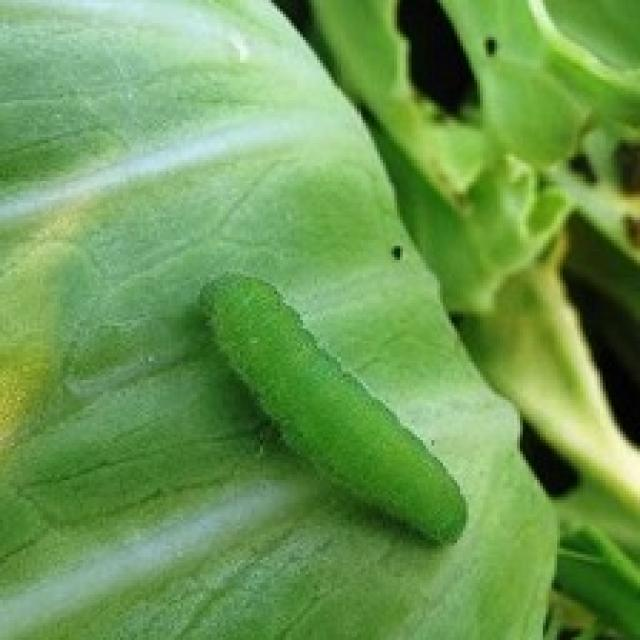Cabbage-worm: (197, 257, 479, 556)
